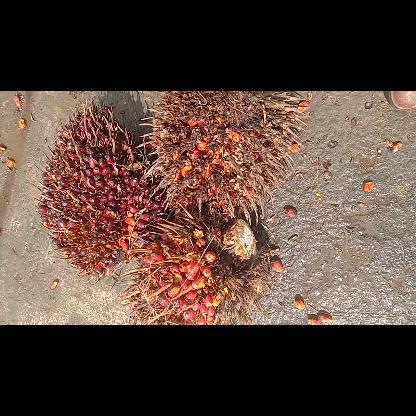TBS masak: (34, 98, 164, 280), (120, 202, 272, 324)
Terlalu masak: (136, 91, 308, 225)
